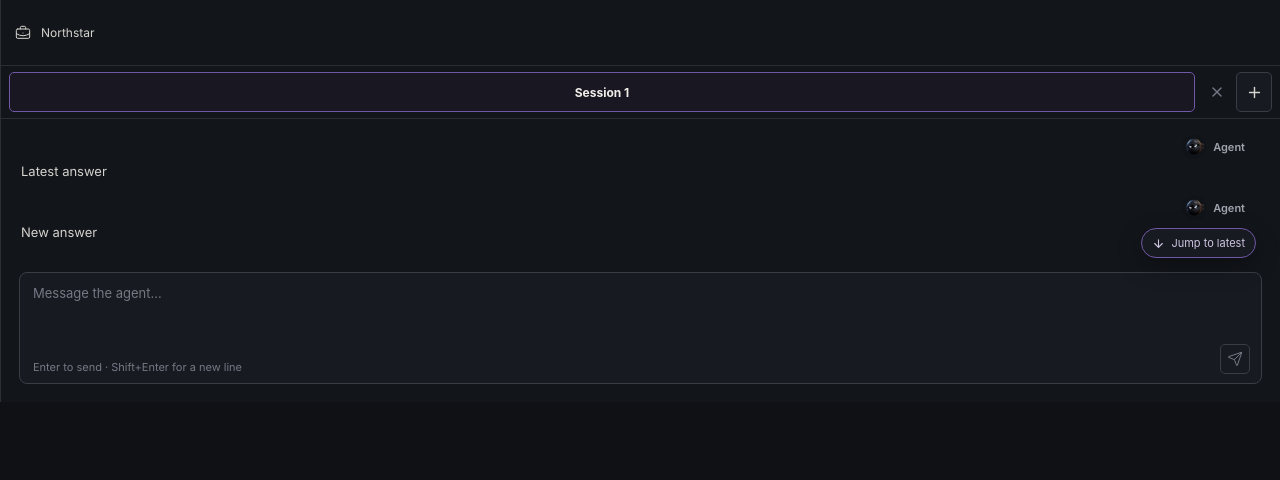
Test: follows the bottom until the user detaches, then offers Jump to latest
The image size is (1280, 480).
(page scrolled)
Click the button "Jump to latest" at (1199, 243), box [1141,228,1256,258]
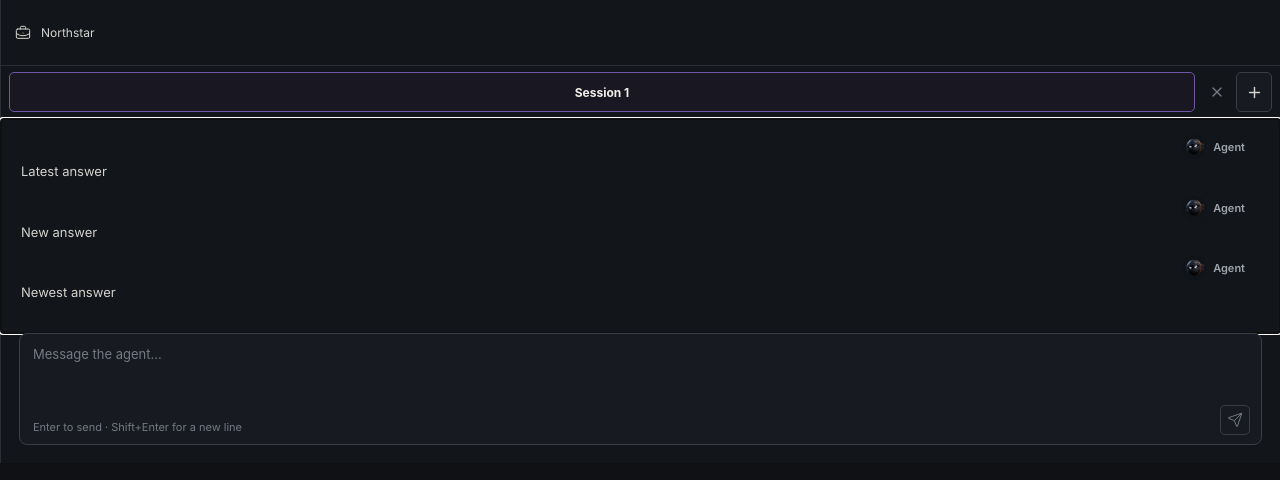
Result: the button "Jump to latest" is gone
